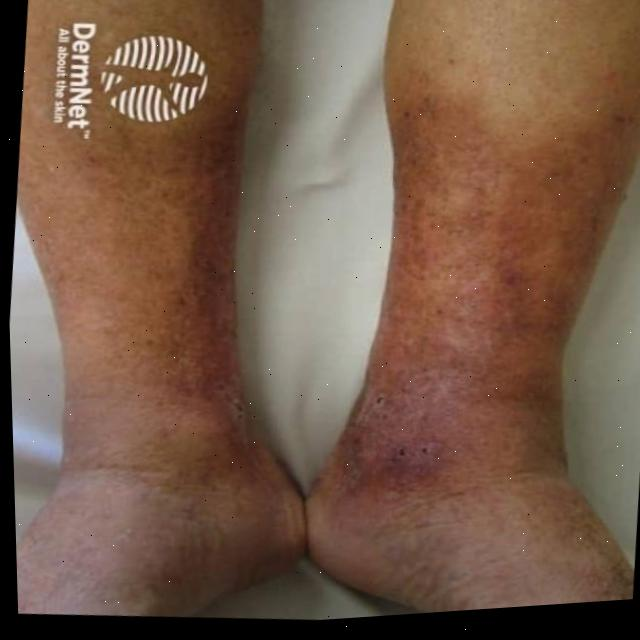Eczema: (326, 63, 556, 506), (139, 73, 294, 493)
